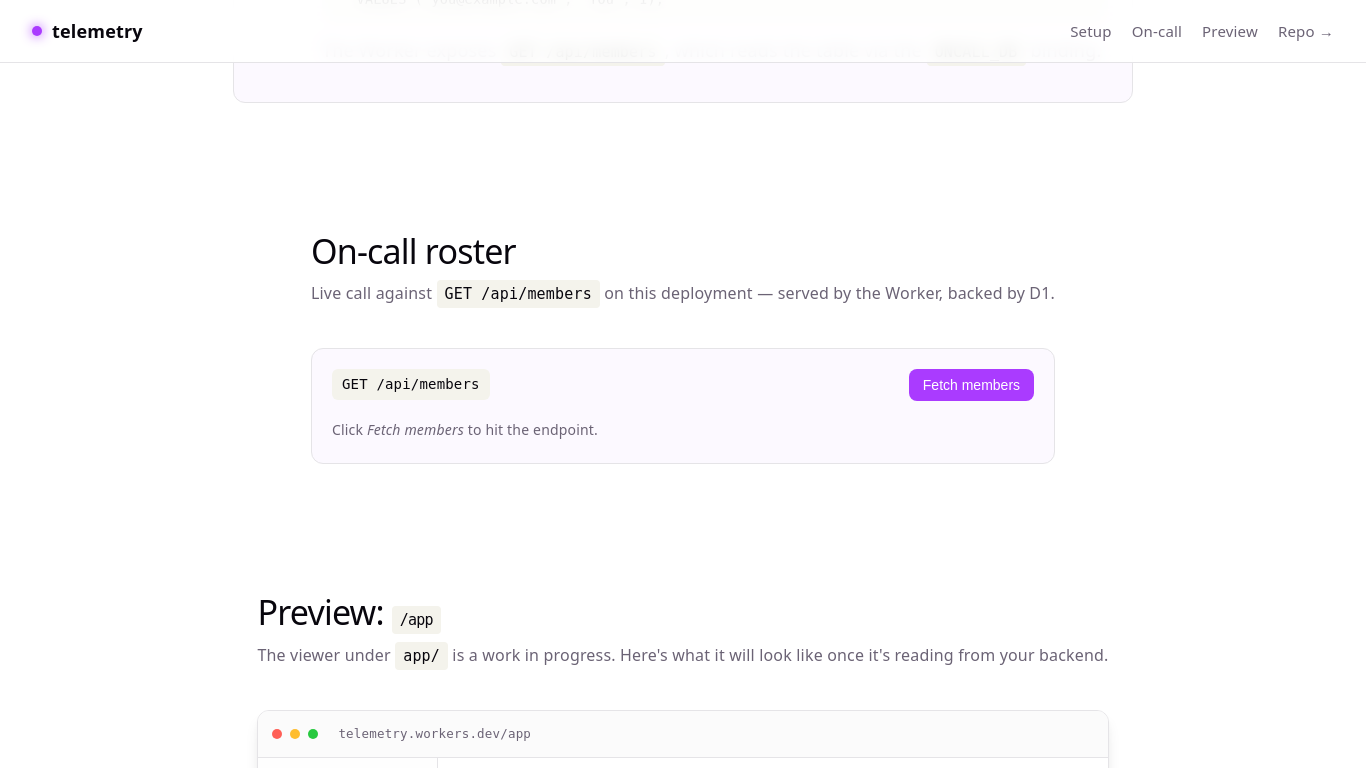
<App /> › shows an error hint when the request fails with non-ok status
(page scrolled)
Click the button "Fetch members" at (971, 385), box [909,369,1034,401]
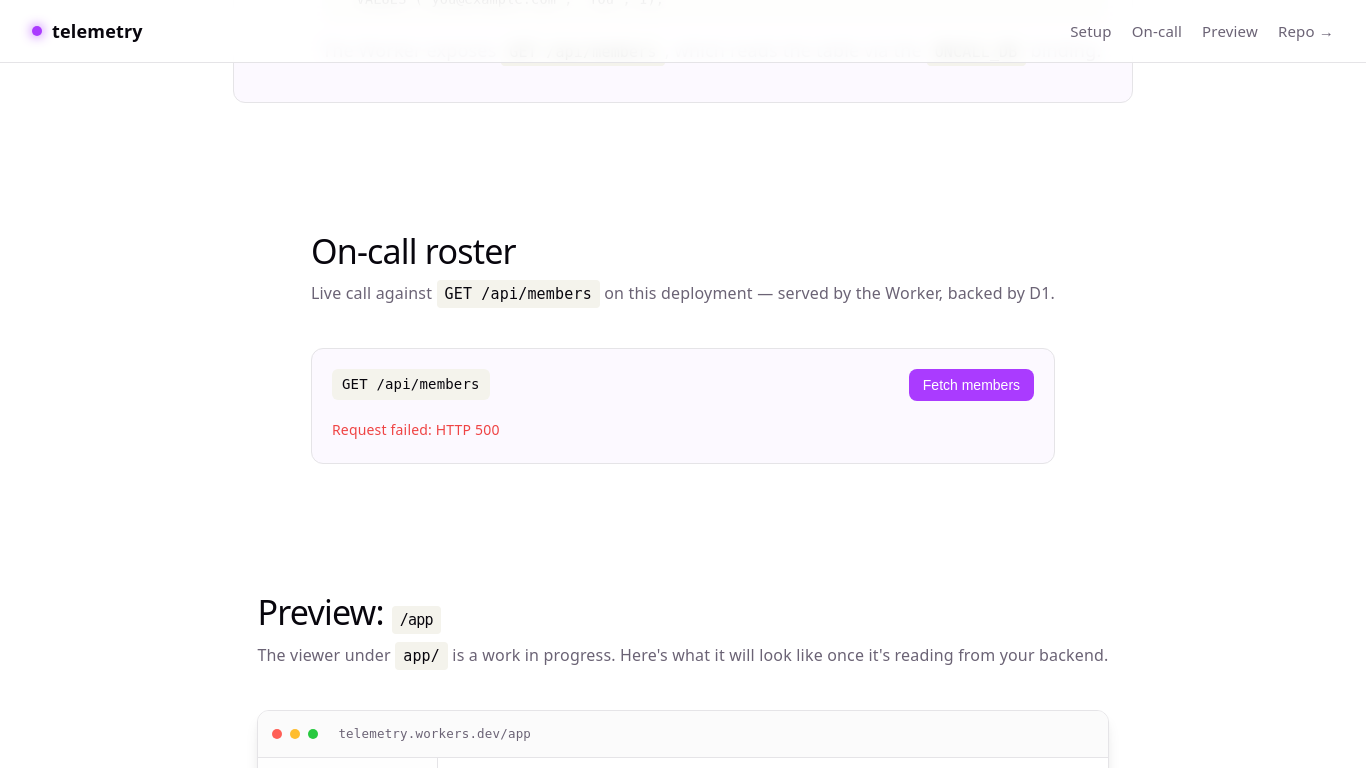
Expected: the text "Request failed: HTTP 500" is shown, [332,420,500,439]
